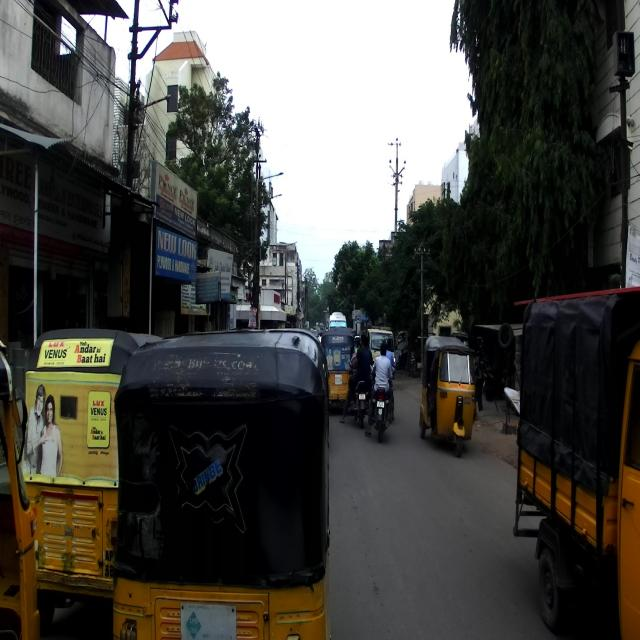autorickshaw: (110, 326, 330, 640), (18, 318, 172, 626), (511, 285, 640, 639), (419, 334, 477, 457)
